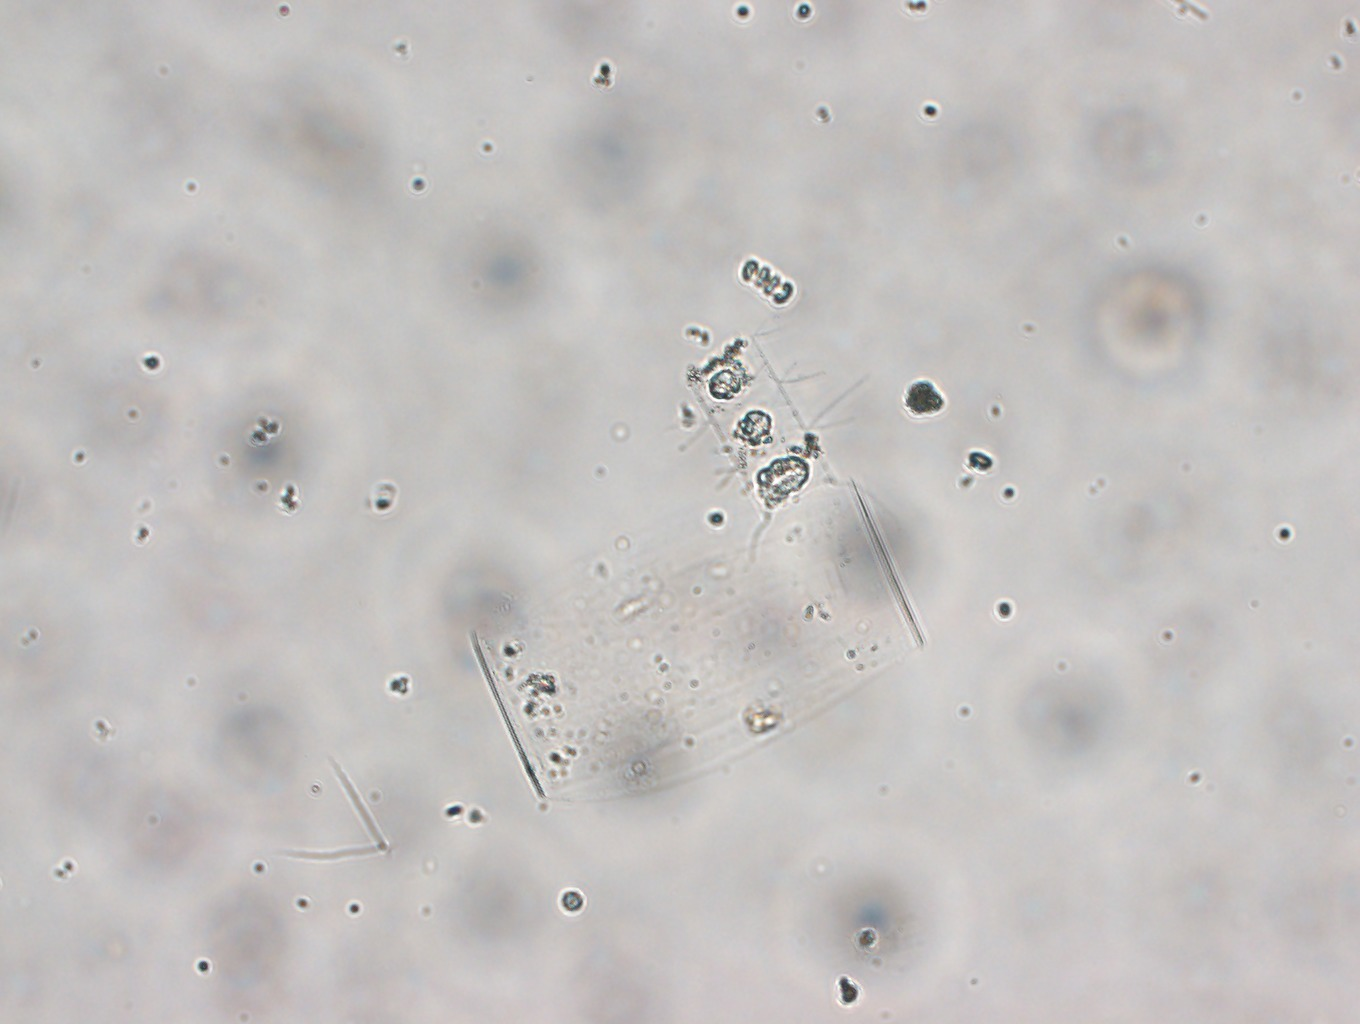chaetoceros: (643, 316, 876, 550)
